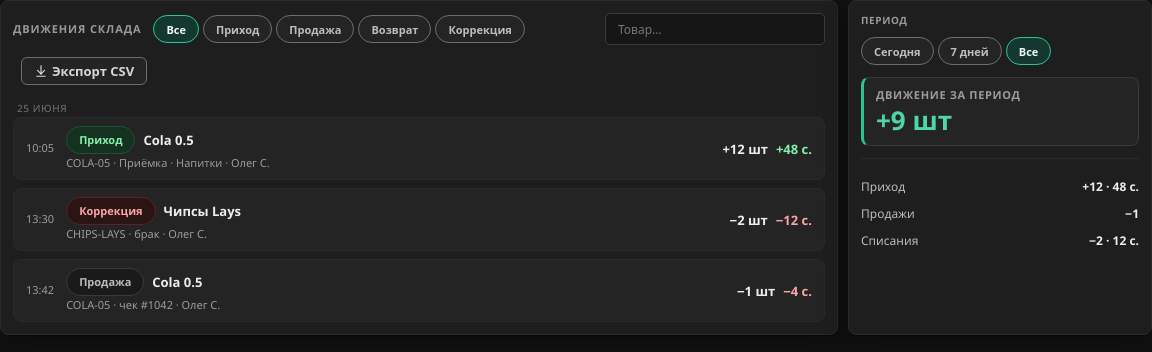
JournalWorkspace › фильтр по типу «Продажа» оставляет только sale
Click the button "Продажа" at x=315, y=29, box [276,15,354,43]
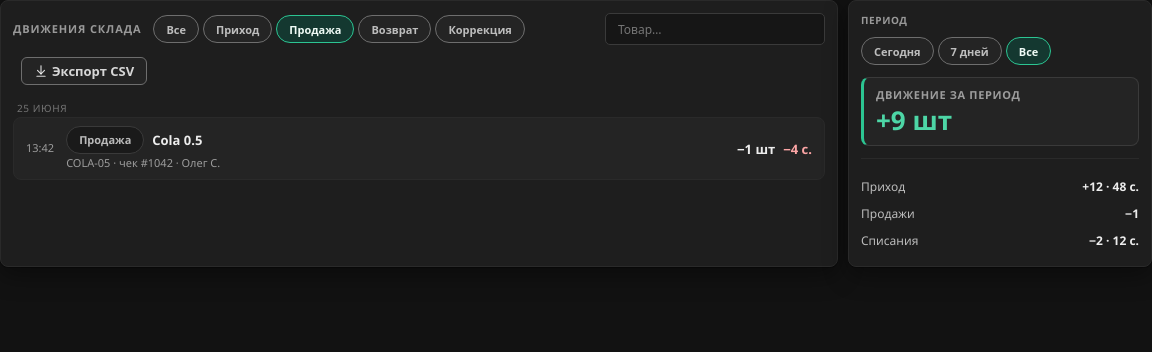
Expected: the text "Cola 0.5" is shown, [152,131,202,149]
Result: the text "Чипсы Lays" is gone
